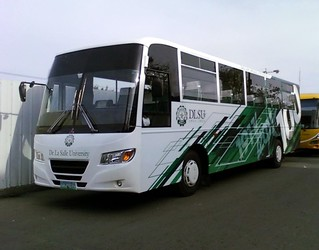bus: (31, 37, 301, 199)
